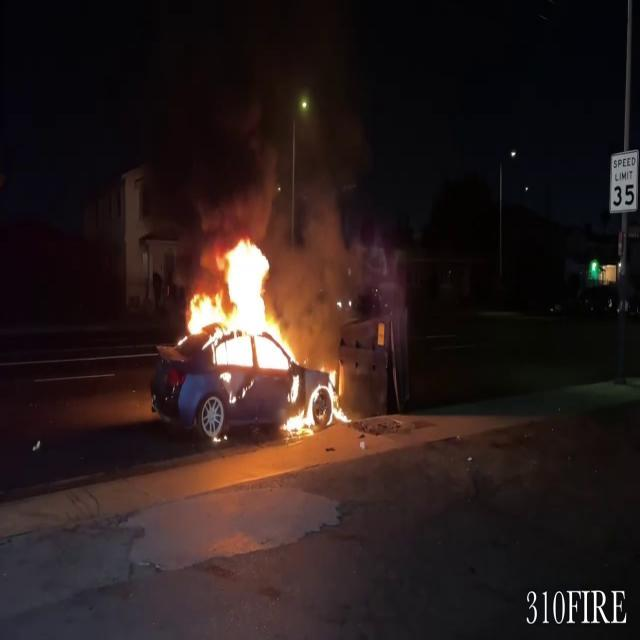Fire: (172, 234, 350, 436)
